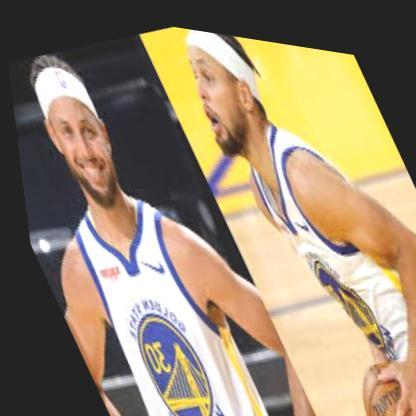basketball: (330, 337, 416, 416)
